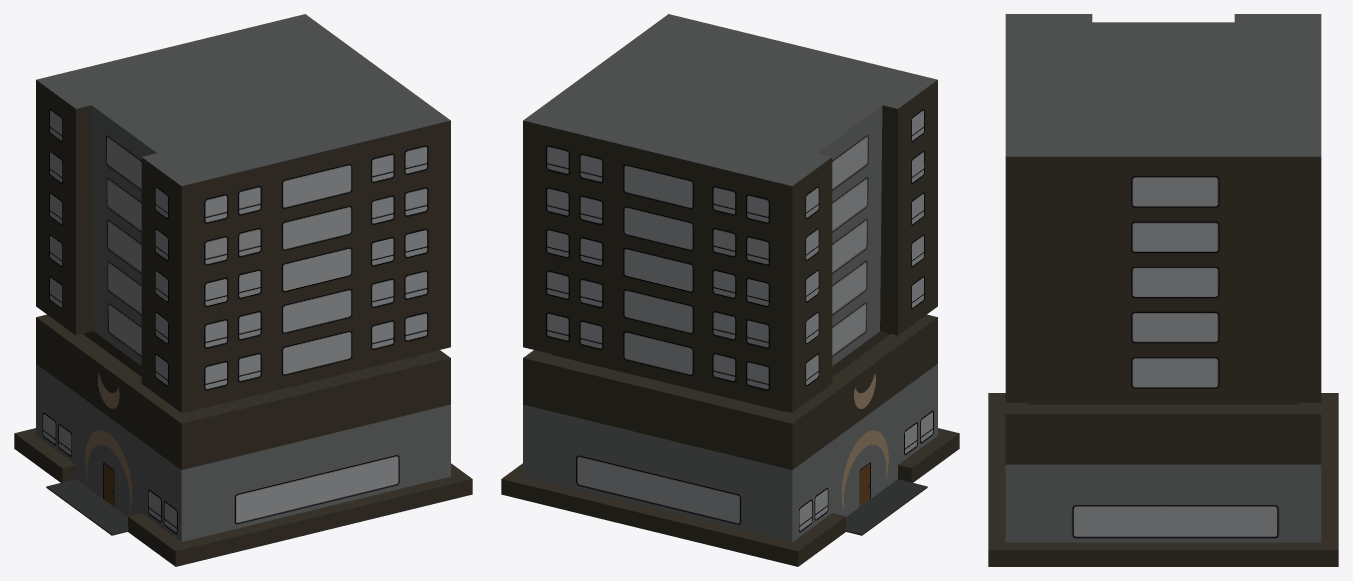
Rendered from edificiocafe.fbx.
3 renders of one model, left to right at view 1: azimuth 30°, elevation 25°; view 2: azimuth 150°, elevation 25°; view 3: azimuth 270°, elevation 25°, orthographic. The views are drawn at different scales.
Visible parts, largest first — view 1: office; view 2: office; view 3: office.
Boxes of the visible parts, x1,y1,x2,y2 form: office: (14,14,472,566); office: (501,14,959,566); office: (988,14,1338,566).
Size of the model in its own units: 290 by 329 by 259.
1 material, 1 textured.
